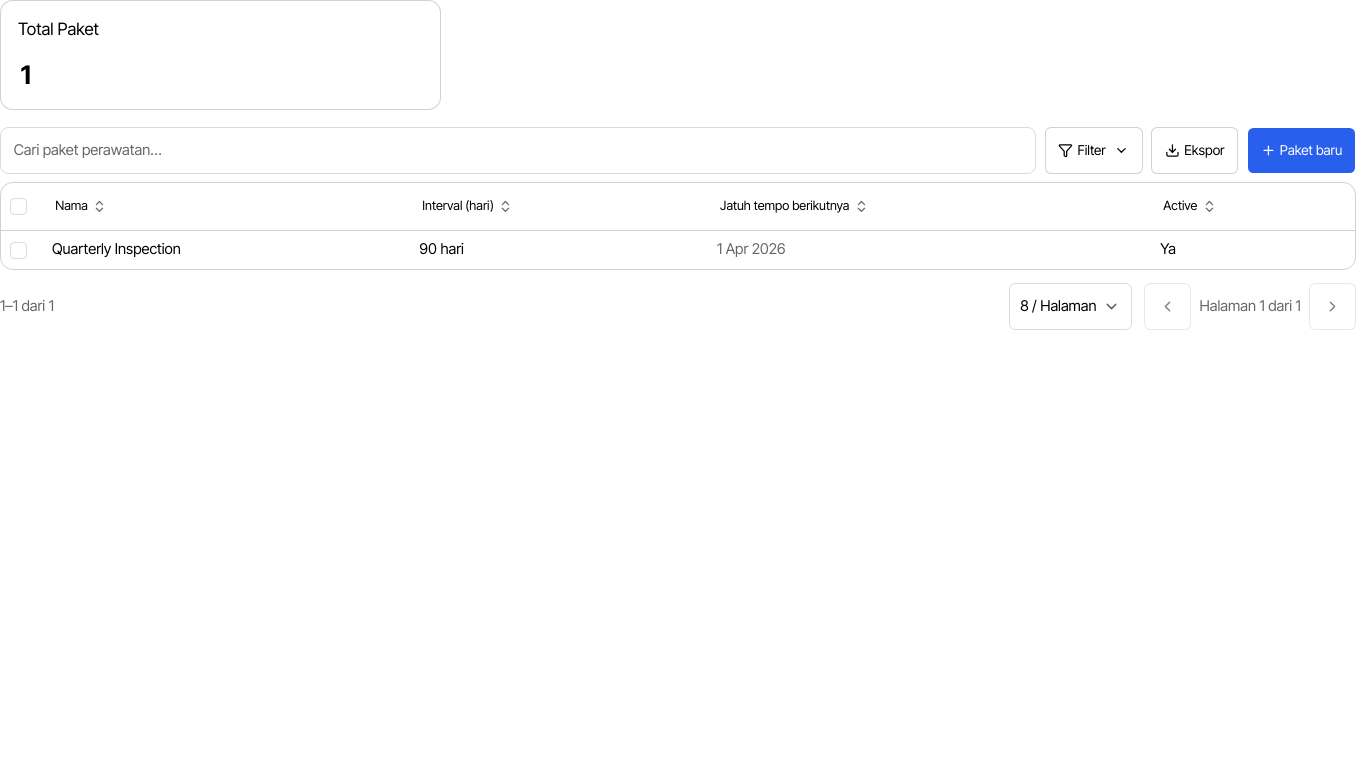
Test case: MaintenancePlansSection › opens the create dialog from the add button
Check: the text "Quarterly Inspection" is shown, box [52,240,181,258]
Click the button "Paket baru" at (1301, 150), box [1247,127,1356,174]
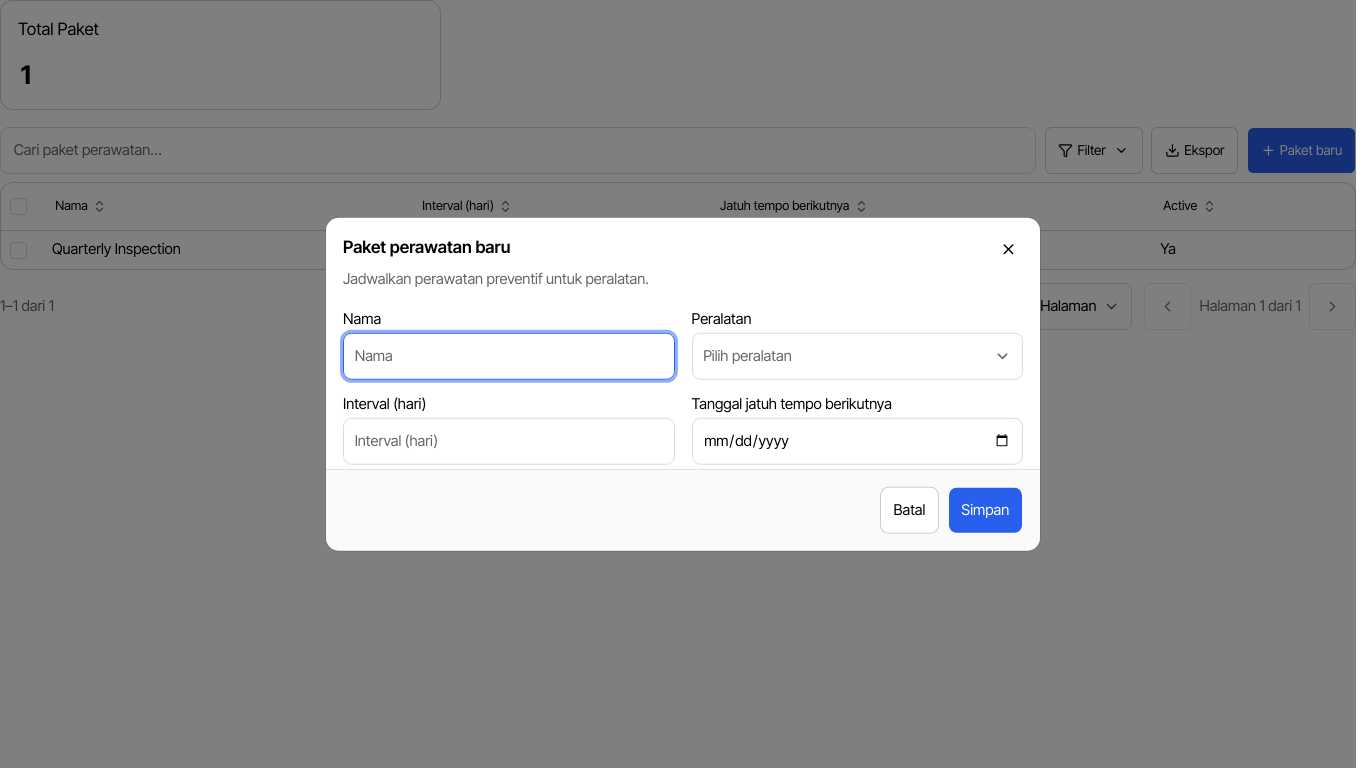
Check: the heading "Paket perawatan baru" is shown, box [343,235,510,260]
